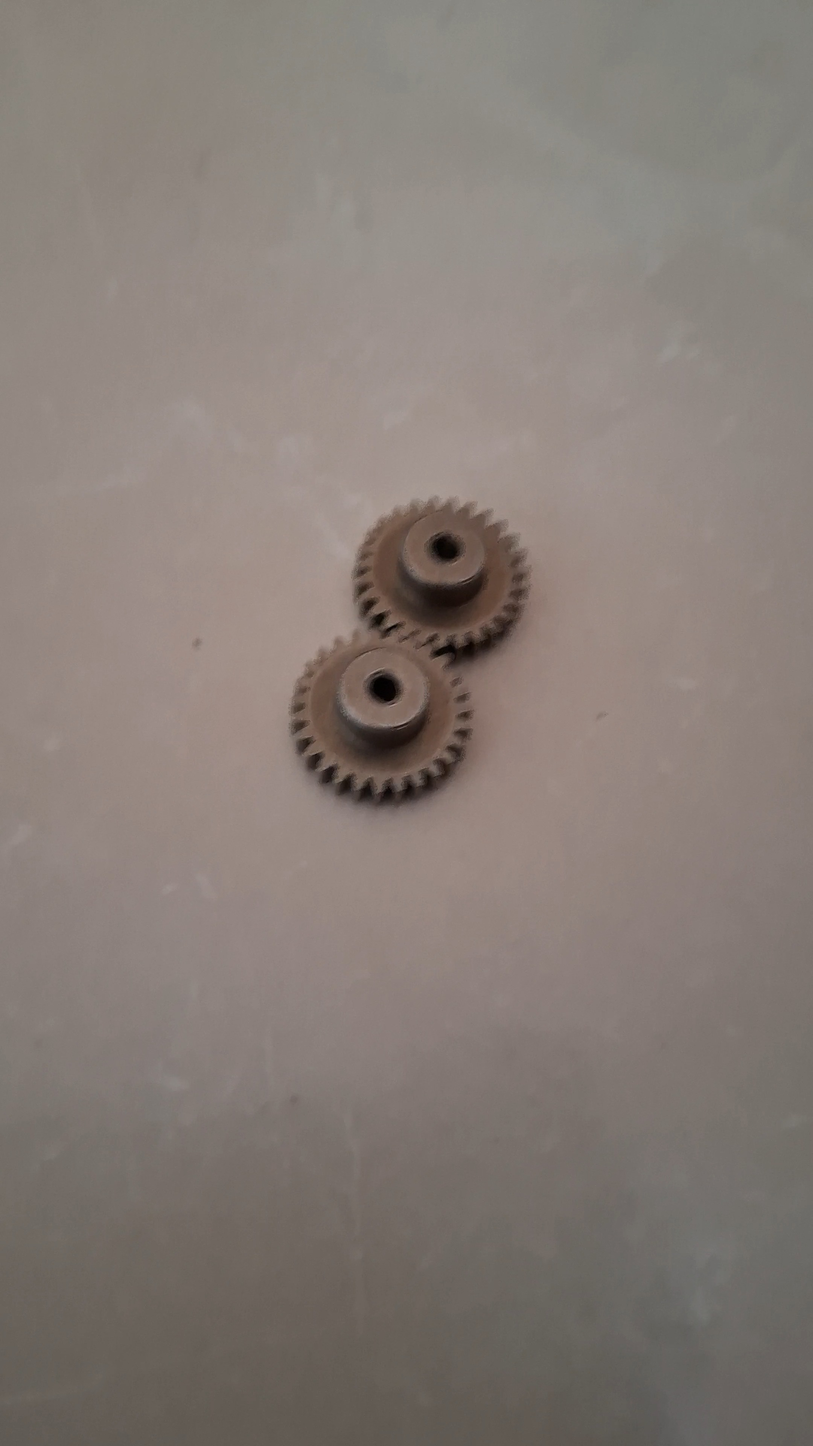spur gear: (291, 631, 471, 799), (353, 499, 528, 652)
